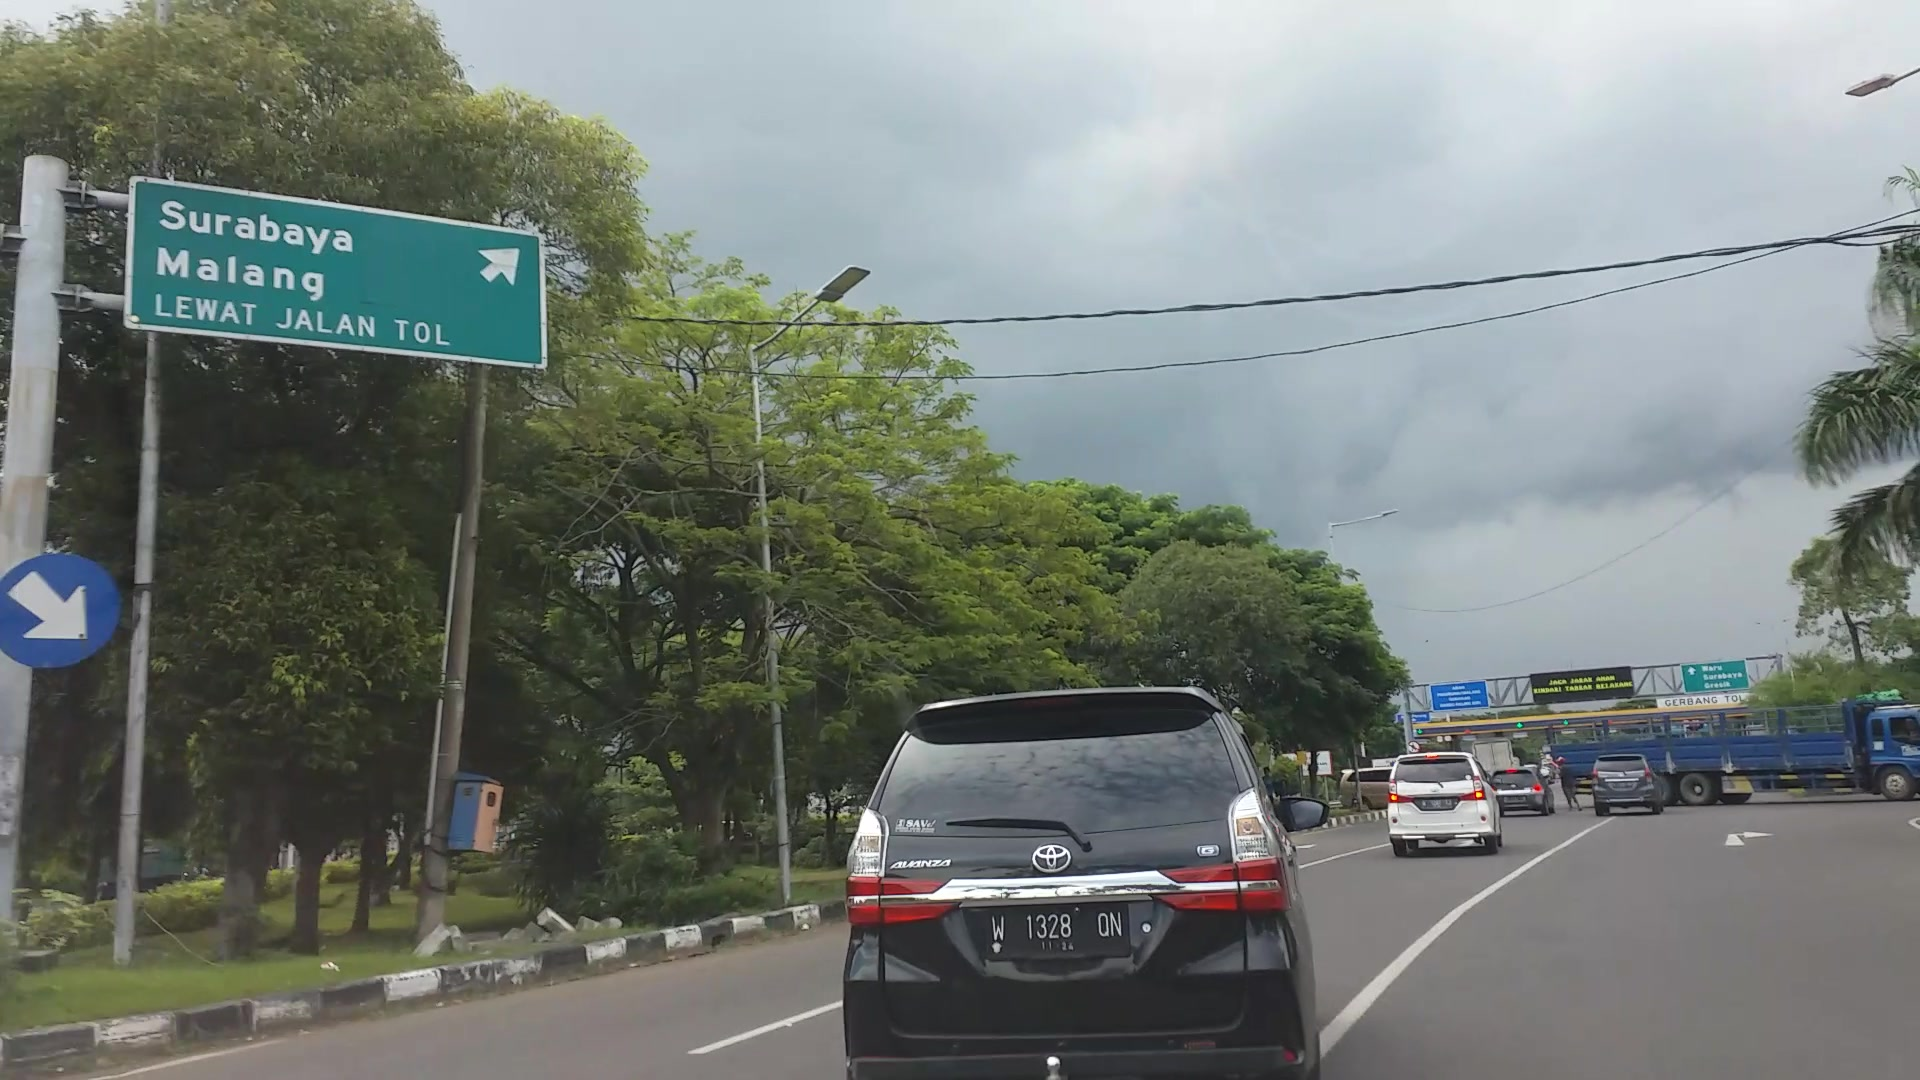plate_positive: (985, 905, 1127, 957)
